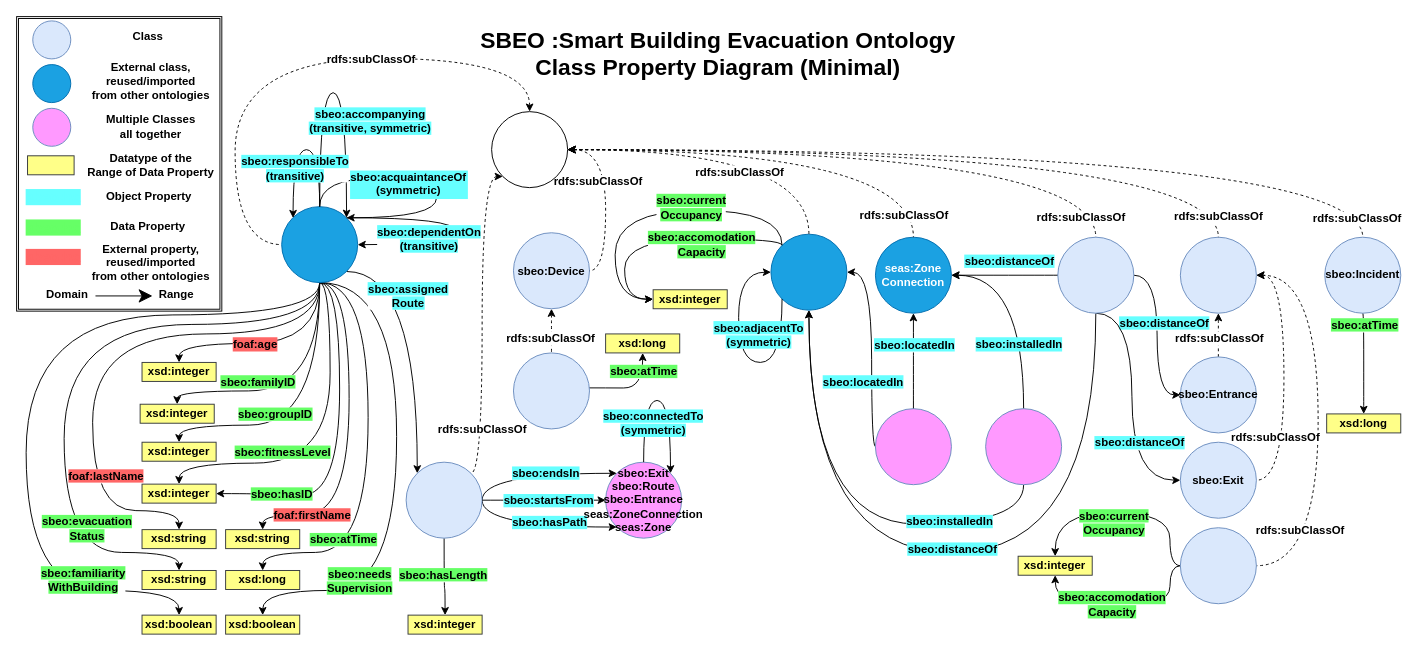
This 1417x651 diagram has some shape labels left out. Each missing label, with the centre of its shape:
"foaf:Person" goes at point 319,244.
"owl:Thing" goes at point 529,149.
"sbeo:Available" goes at point 1217,565.
"sbeo:Device seas:Zone seas:ZoneConnection" goes at point 1023,446.
"sbeo:Distance" goes at point 1095,274.
"sbeo:Exit sbeo:Entrance seas:ZoneConnection seas:Zone foaf:Person sbeo:Incident" goes at point 912,446.
"sbeo:Route" goes at point 443,499.
"sbeo:Sensor" goes at point 551,390.
"sbeo:Space Characteristic" goes at point 1217,274.
"seas:Zone" goes at point 808,271.
